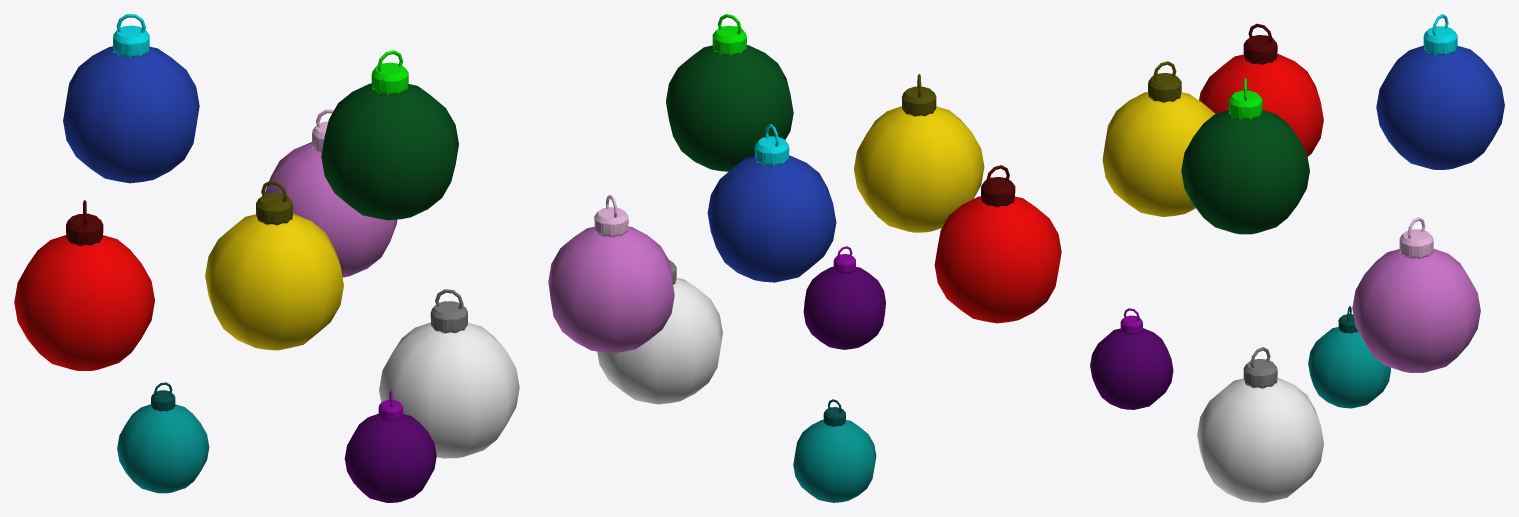
File: Kugeln.fbx
3 renders of one model, left to right at view 1: azimuth 30°, elevation 25°; view 2: azimuth 150°, elevation 25°; view 3: azimuth 270°, elevation 25°, orthographic. The views are drawn at different scales.
Visible parts, largest first — view 1: pTorus3, pTorus2, pTorus6, pTorus9, pTorus5, pTorus4, pTorus7, pTorus8; view 2: pTorus9, pTorus6, pTorus4, pTorus2, pTorus3, pTorus5, pTorus8, pTorus7; view 3: pTorus4, pTorus6, pTorus5, pTorus3, pTorus2, pTorus9, pTorus8, pTorus7.
Boxes of the visible parts, box(x1,y1,x2,y2) form: pTorus3: box(321, 50, 458, 220); pTorus2: box(205, 180, 343, 350); pTorus6: box(63, 14, 199, 183); pTorus9: box(14, 200, 154, 370); pTorus5: box(379, 289, 519, 458); pTorus4: box(265, 109, 397, 277); pTorus7: box(117, 382, 209, 493); pTorus8: box(344, 391, 436, 502); pTorus9: box(934, 165, 1061, 323); pTorus6: box(707, 124, 836, 282); pTorus4: box(548, 194, 674, 353); pTorus2: box(854, 74, 984, 232); pTorus3: box(666, 14, 793, 171); pTorus5: box(597, 260, 722, 404); pTorus8: box(803, 246, 885, 349); pTorus7: box(793, 399, 876, 502); pTorus4: box(1352, 217, 1480, 372); pTorus6: box(1376, 14, 1504, 169); pTorus5: box(1197, 347, 1323, 502); pTorus3: box(1181, 78, 1309, 234); pTorus2: box(1102, 61, 1215, 216); pTorus9: box(1199, 23, 1323, 156); pTorus8: box(1090, 308, 1173, 409); pTorus7: box(1308, 306, 1390, 408).
Bounding box in the file's own units: 109 × 94.34 × 88.48.
